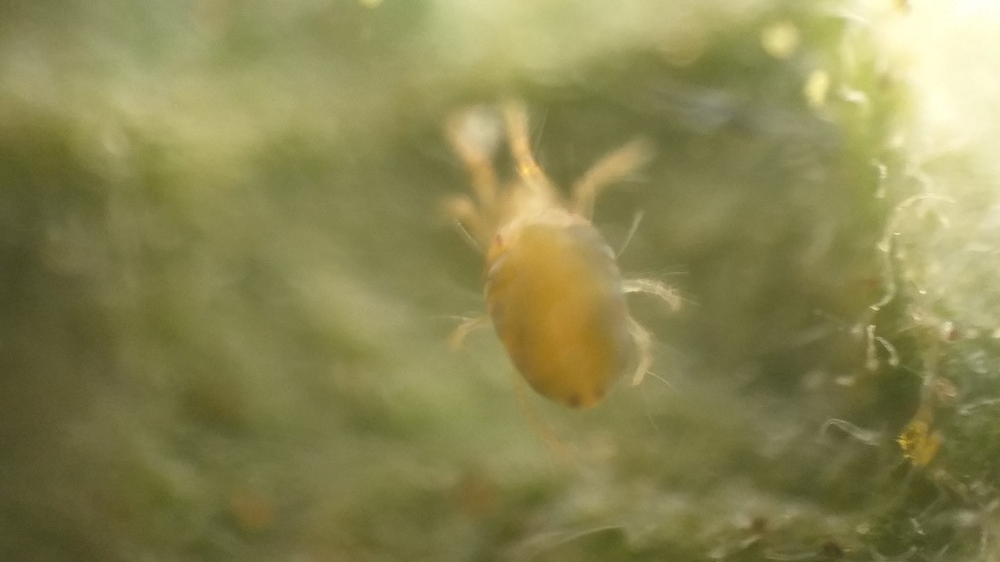Aracnido Rojo: (301, 115, 601, 486)
